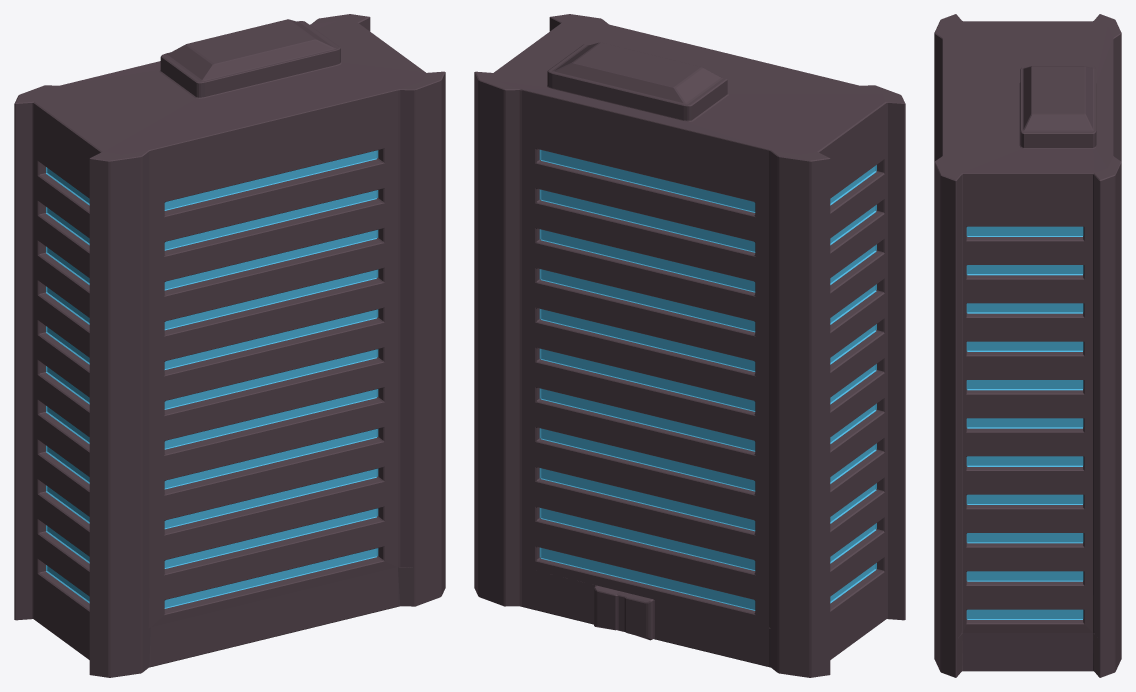
The model's file is buildings1.fbx.
3 views of the same model, side by side, from view 1: azimuth 30°, elevation 25°; view 2: azimuth 150°, elevation 25°; view 3: azimuth 270°, elevation 25° (orthographic). The views are drawn at different scales.
Parts seen in each view (by area): view 1: 1.001; view 2: 1.001; view 3: 1.001.
Boxes of the visible parts, <box> form: 1.001: <box>14,14,445,677</box>; 1.001: <box>474,14,905,677</box>; 1.001: <box>934,14,1121,677</box>.
Bounding box in the file's own units: 3970 × 5784 × 1879.
